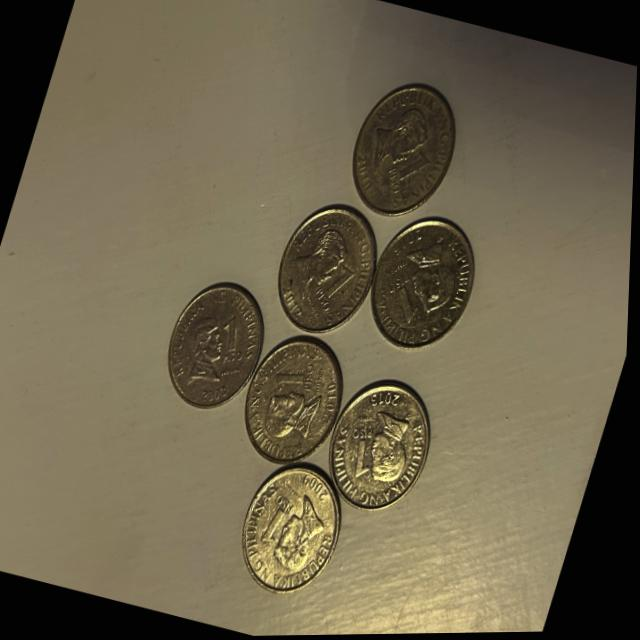1_Old_Front: (380, 145, 442, 209), (256, 487, 308, 555), (265, 354, 327, 410), (380, 266, 434, 328), (341, 414, 386, 480), (314, 258, 365, 316), (211, 310, 258, 370)
